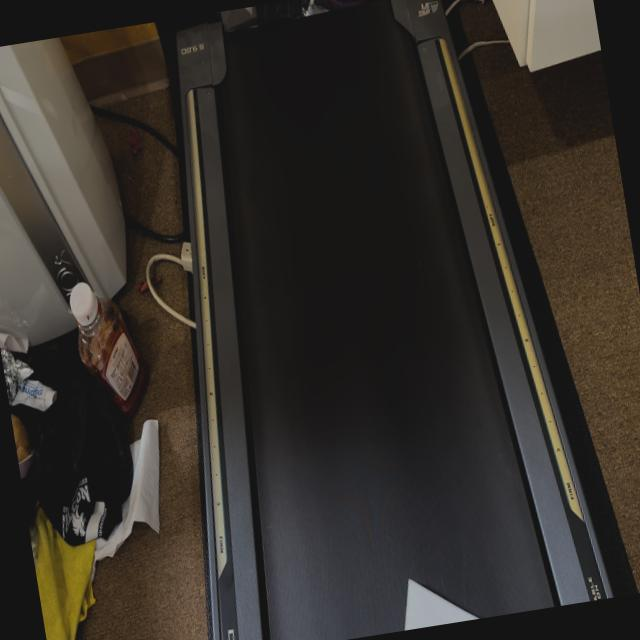Recycle: (398, 569, 483, 630)
